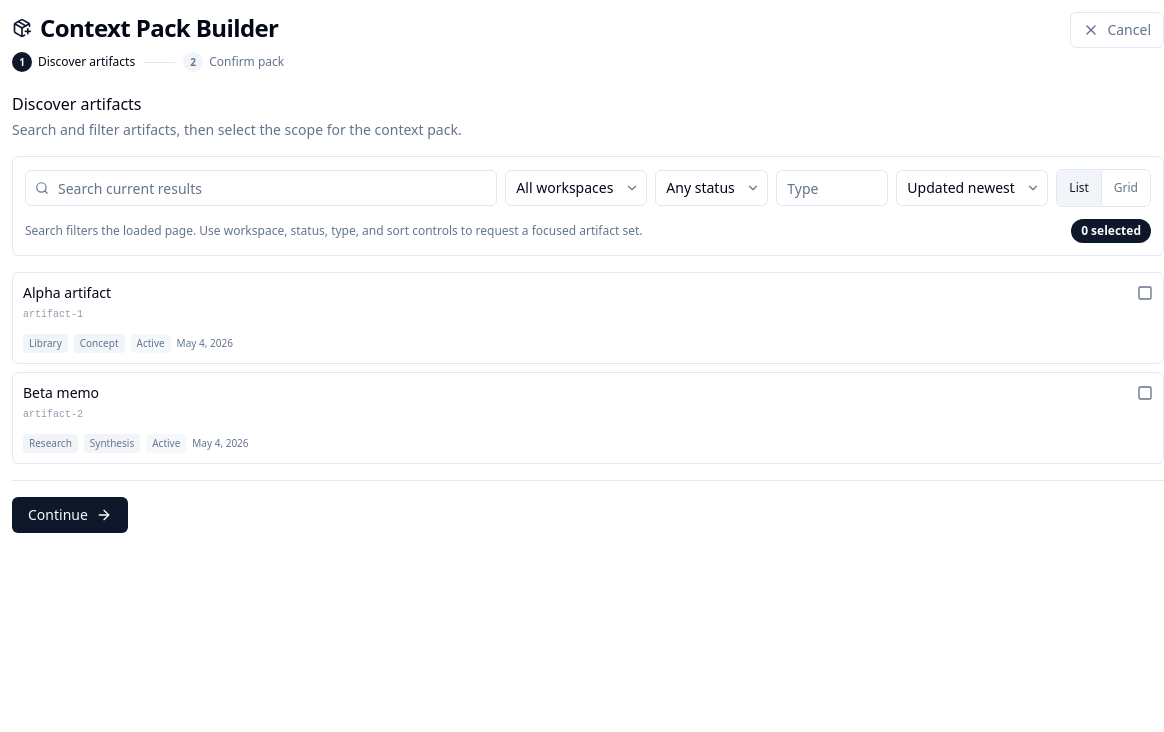
Test case: ContextPackBuilder › loads discovery artifacts and supports search
Check: the checkbox labelled "Alpha artifact artifact-1 library concept active May 4, 2026" is shown, box [12,272,1163,364]
Check: the checkbox labelled "Beta memo artifact-2 research synthesis active May 4, 2026" is shown, box [12,372,1163,464]
Type "alpha" into the search field named "search artifacts".
click(261, 188); type("alpha")  # box [25,170,497,206]
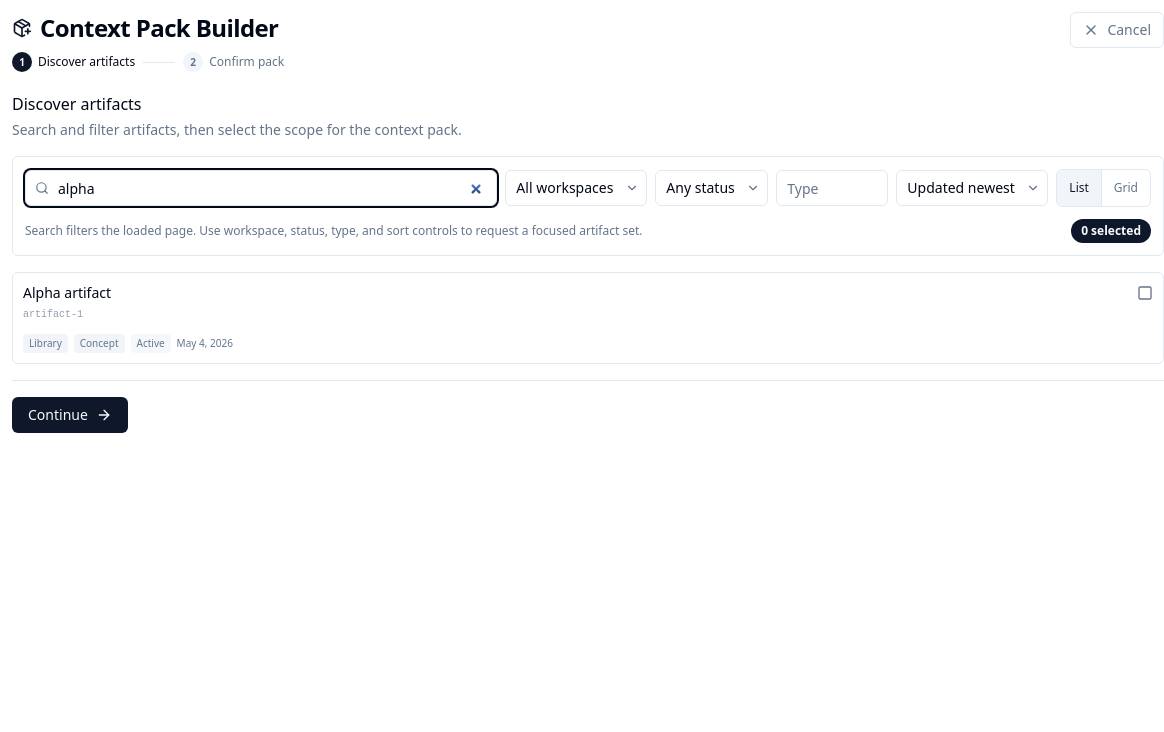
Check: the checkbox labelled "Alpha artifact artifact-1 library concept active May 4, 2026" is shown, box [12,272,1163,364]
Check: the checkbox labelled "Beta memo" is gone
